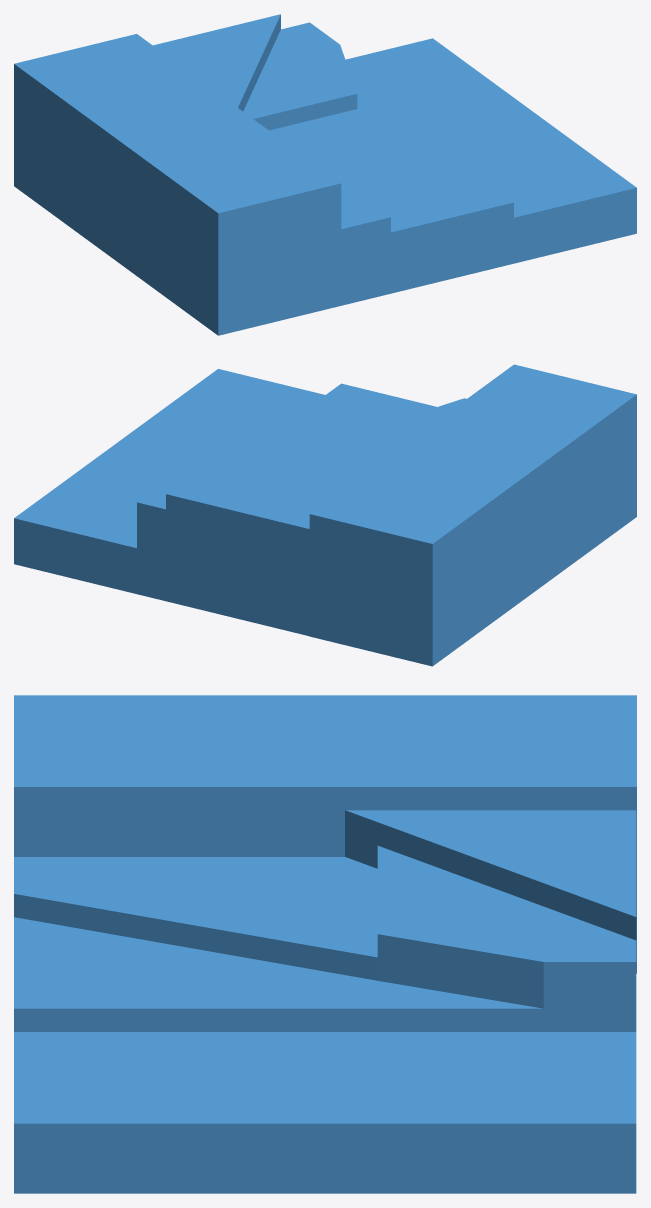
The model's file is New_Level2.fbx.
The picture shows the model from 3 angles, top to bottom: view 1: azimuth 30°, elevation 25°; view 2: azimuth 150°, elevation 25°; view 3: azimuth 270°, elevation 25°; orthographic projection. The views are drawn at different scales.
Visible parts, largest first — view 1: New_Level2_1-6, New_Level2_6-6, New_Level2_5-6, New_Level2_4-6, New_Level2_3-6, New_Level2_2-6; view 2: New_Level2_1-6, New_Level2_6-6, New_Level2_2-6, New_Level2_3-6, New_Level2_5-6, New_Level2_4-6; view 3: New_Level2_6-6, New_Level2_1-6, New_Level2_5-6, New_Level2_4-6, New_Level2_3-6, New_Level2_2-6.
Part boxes in pixels (x1,y1,x2,y2): New_Level2_1-6: [14, 34, 341, 335]; New_Level2_6-6: [345, 38, 636, 263]; New_Level2_5-6: [354, 86, 513, 293]; New_Level2_4-6: [269, 109, 390, 305]; New_Level2_3-6: [243, 22, 357, 130]; New_Level2_2-6: [153, 14, 280, 111]; New_Level2_1-6: [309, 364, 636, 666]; New_Level2_6-6: [14, 369, 324, 593]; New_Level2_2-6: [166, 463, 378, 636]; New_Level2_3-6: [137, 449, 338, 601]; New_Level2_5-6: [245, 383, 436, 455]; New_Level2_4-6: [287, 398, 466, 468]; New_Level2_6-6: [14, 1032, 636, 1193]; New_Level2_1-6: [14, 695, 636, 973]; New_Level2_5-6: [14, 917, 543, 1031]; New_Level2_4-6: [14, 857, 377, 980]; New_Level2_3-6: [377, 846, 636, 1031]; New_Level2_2-6: [345, 810, 636, 940].
Size of the model in its own units: 14311 by 12100 by 4000.
